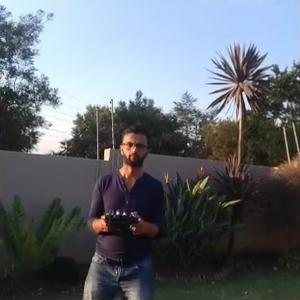follow: (76, 119, 167, 298)
